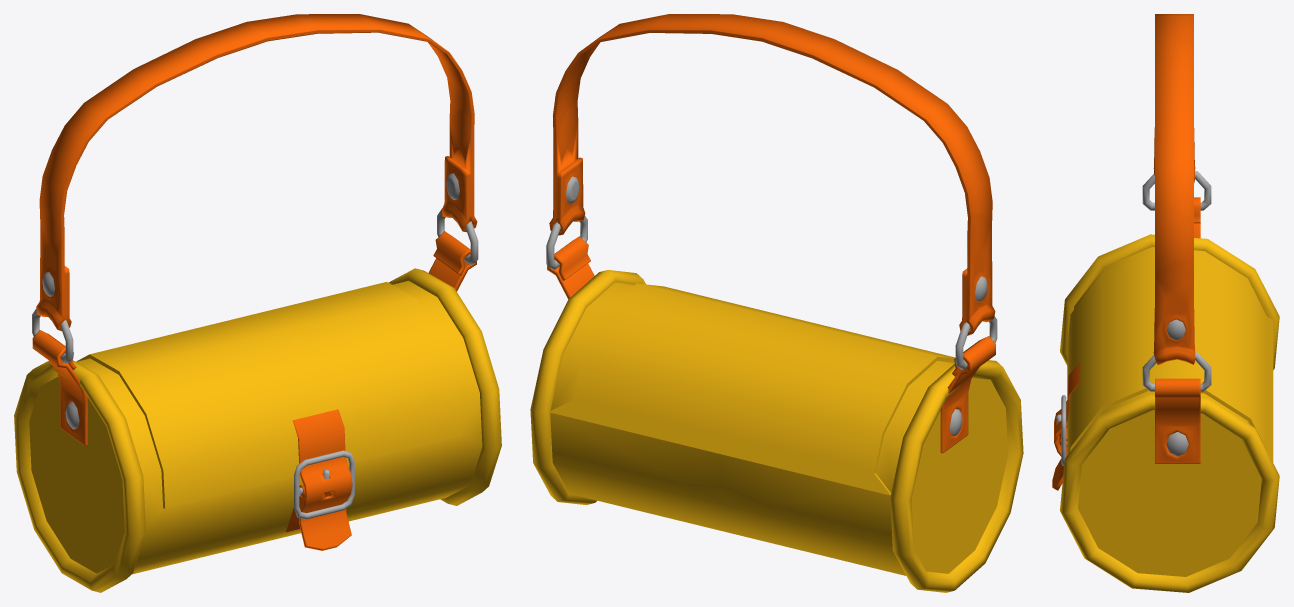
The model's file is bag2.fbx.
The picture shows the model from 3 angles, left to right: view 1: azimuth 30°, elevation 25°; view 2: azimuth 150°, elevation 25°; view 3: azimuth 270°, elevation 25°; orthographic projection. The views are drawn at different scales.
Visible parts, largest first — view 1: bag2; view 2: bag2; view 3: bag2.
Part boxes in pixels (x1,y1,x2,y2): bag2: (14, 14, 501, 592); bag2: (530, 14, 1023, 592); bag2: (1052, 14, 1279, 592).
Bounding box in the file's own units: 25.51 × 29.39 × 13.03.
1 material, 1 textured.
